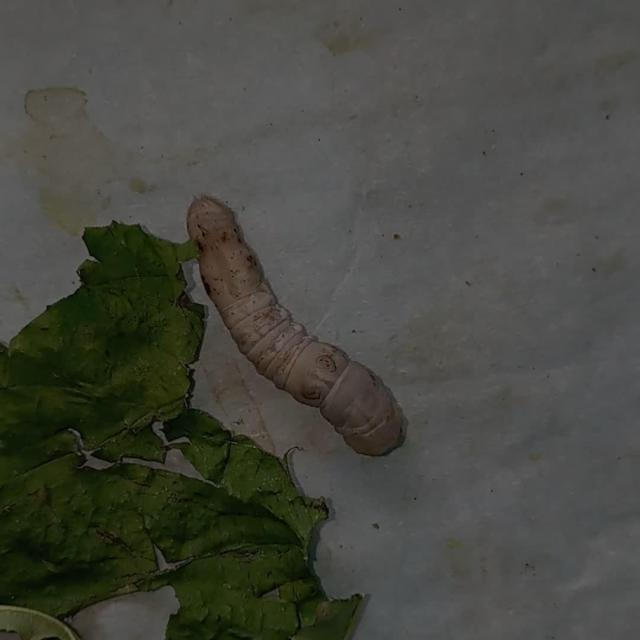Grasserie: (178, 174, 414, 463)
